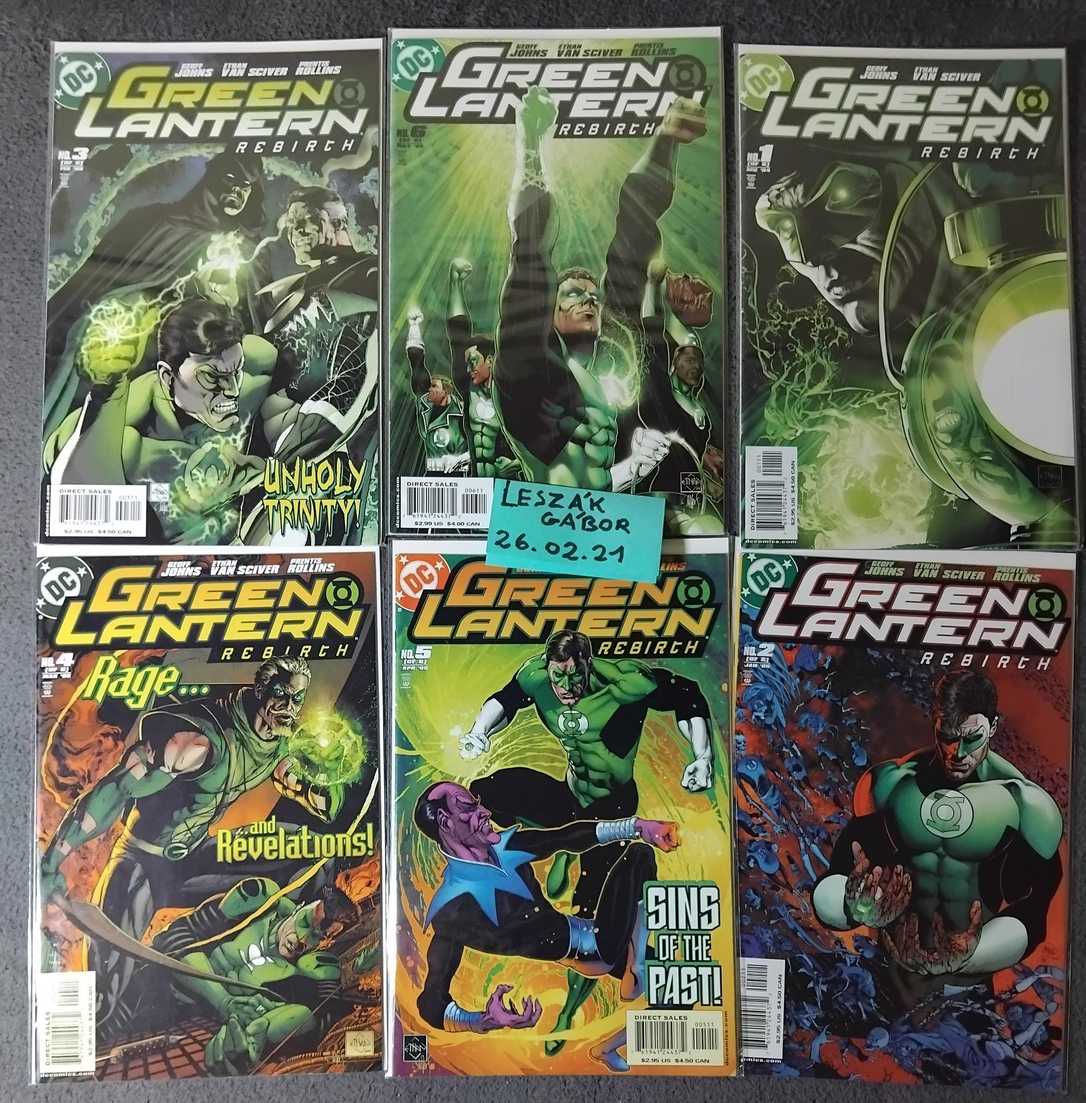comic: (385, 541, 737, 1076), (31, 547, 383, 1081), (731, 548, 1075, 1090), (41, 36, 384, 548), (736, 42, 1079, 552), (387, 28, 724, 535)
